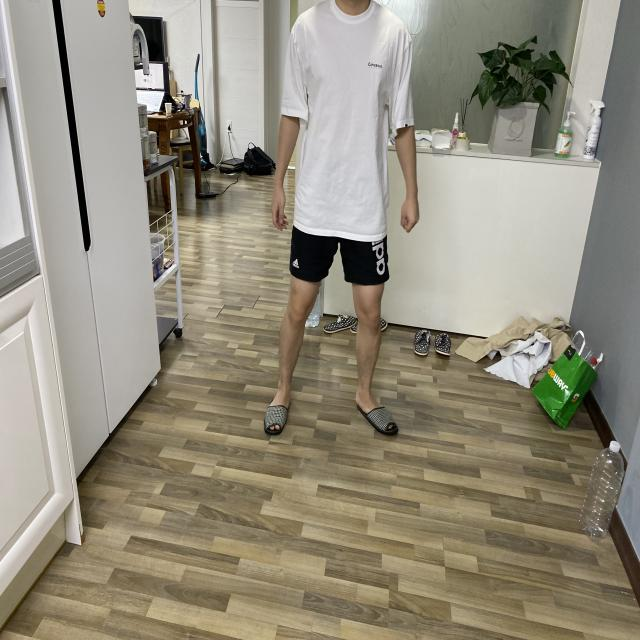no-boots: (260, 373, 306, 446), (351, 390, 404, 449)
